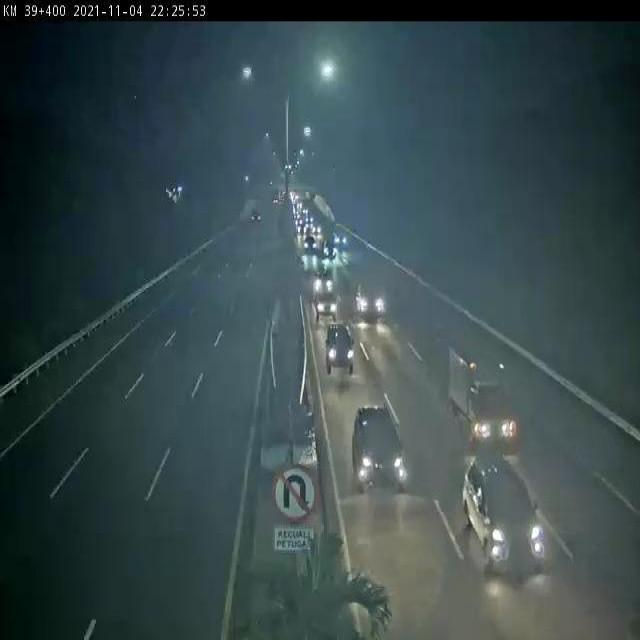car: (461, 460, 561, 579), (358, 405, 407, 503), (356, 278, 386, 322), (329, 321, 353, 376), (314, 272, 333, 295), (320, 295, 335, 320), (303, 236, 319, 255), (323, 240, 338, 259), (335, 231, 349, 248)
truck-s-: (448, 339, 526, 440)
